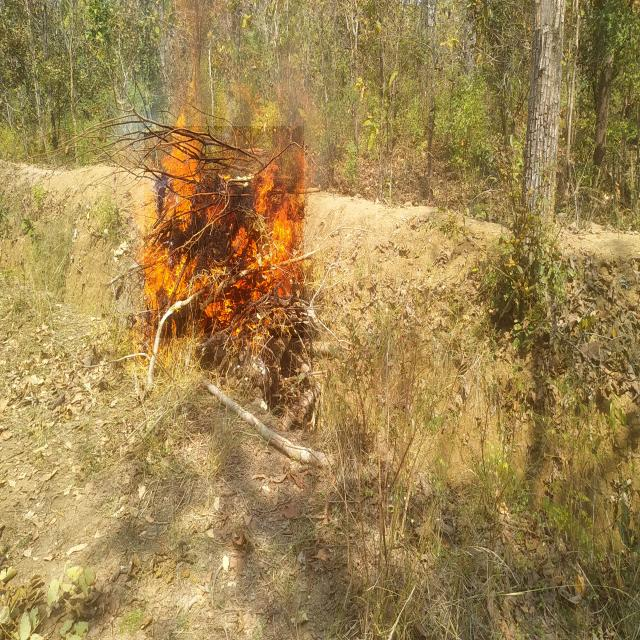Fire: (144, 126, 304, 338)
